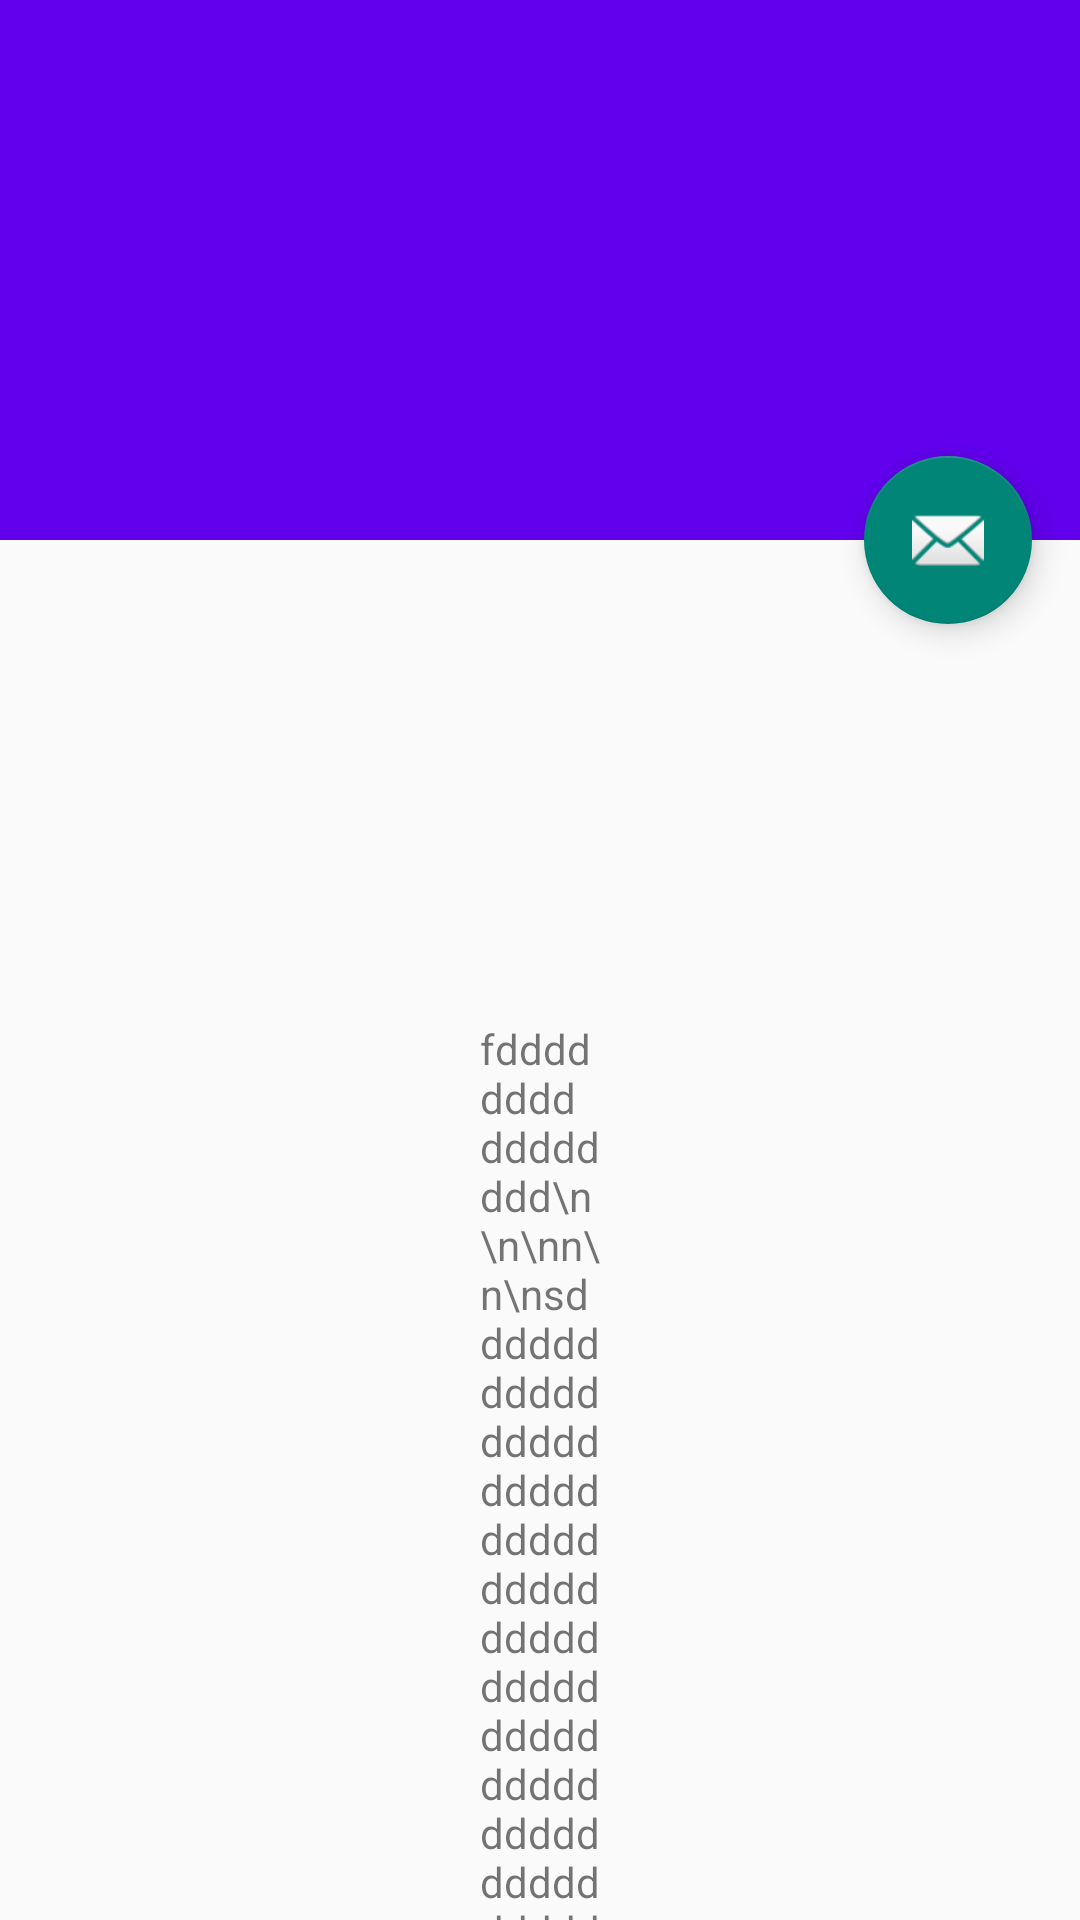

Named icons in this screenshot (1080px×1920px) and their centers, point (x, y):
email: point (948, 540)
